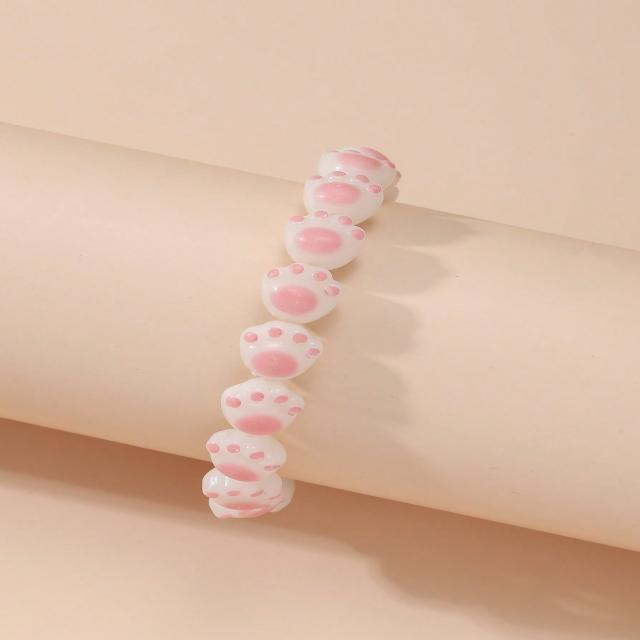bracelet: (115, 45, 506, 582)
